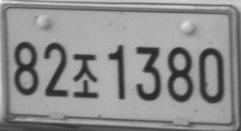0: (197, 46, 225, 104)
1: (105, 44, 132, 100)
2: (42, 41, 68, 97)
3: (135, 45, 161, 101)
8: (167, 46, 194, 103), (13, 40, 39, 95)
조: (71, 53, 99, 98)
